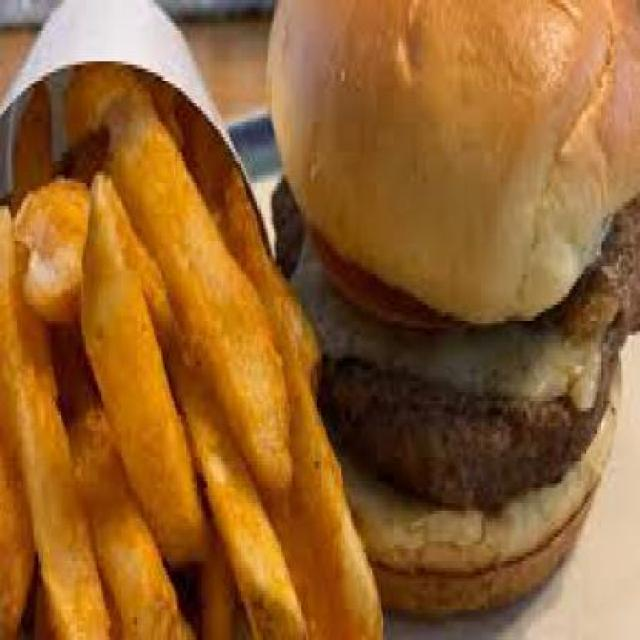hamburger: (258, 4, 638, 613)
